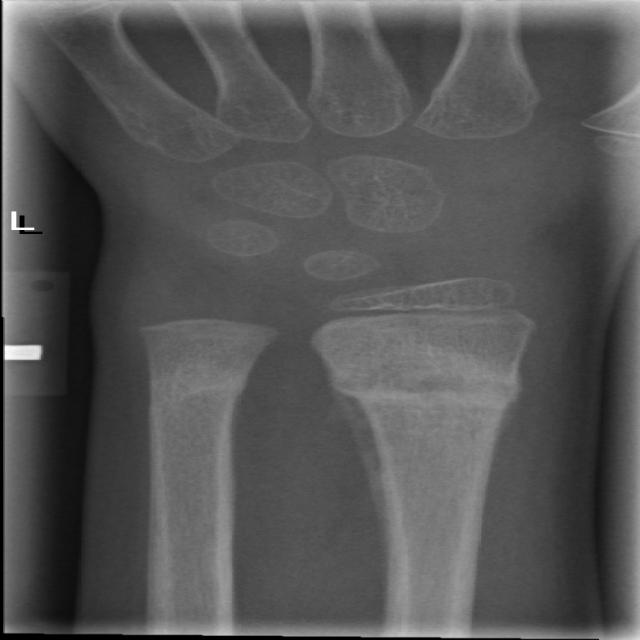radius fracture: (295, 338, 576, 536)
